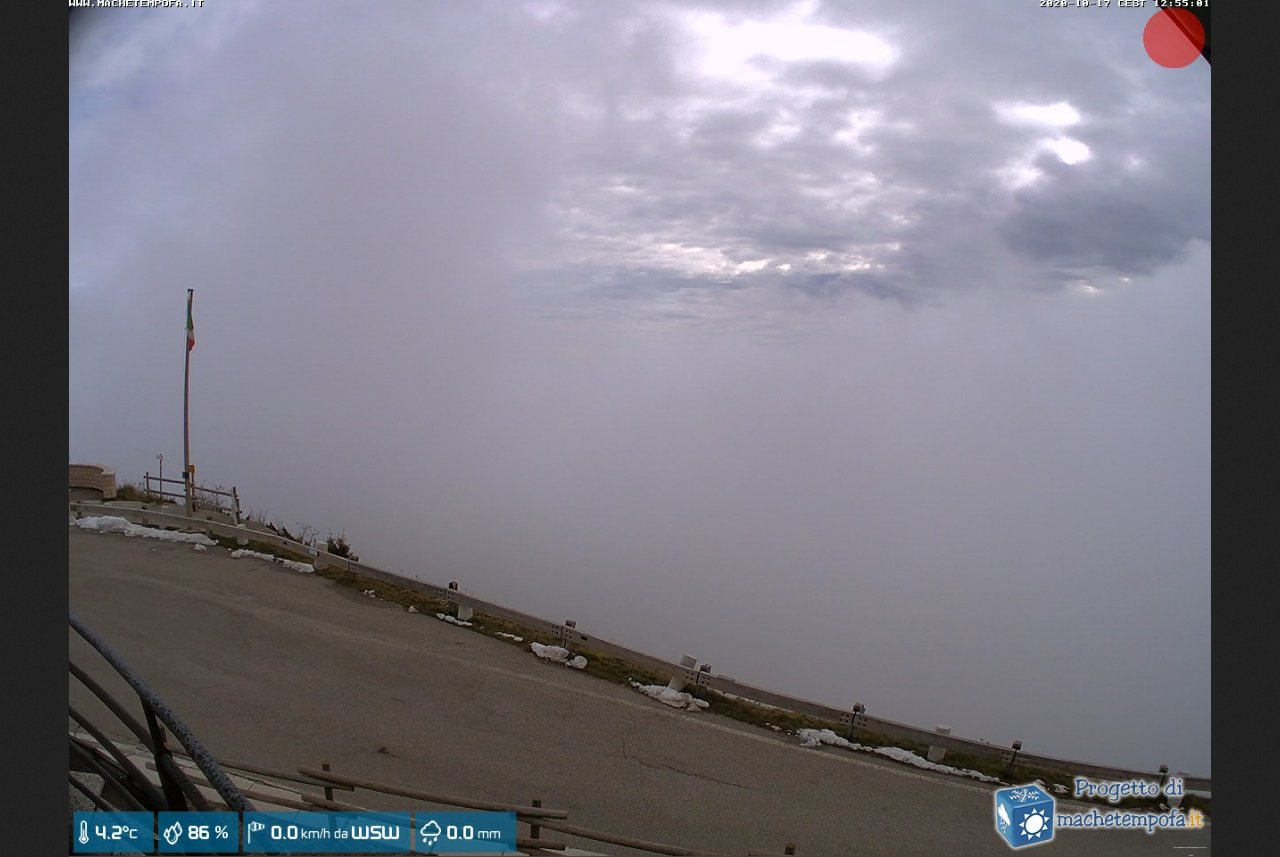no: (182, 290, 200, 351)
